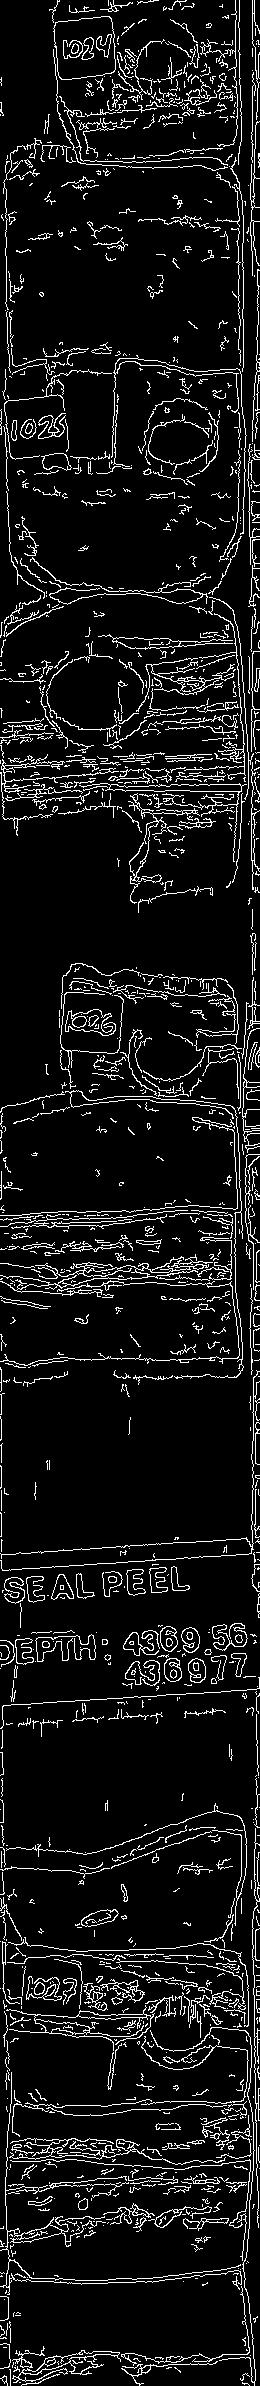hplug: (113, 11, 208, 103), (135, 1977, 224, 2074), (122, 1007, 217, 1096), (135, 396, 227, 484)
scal: (30, 630, 160, 750), (43, 781, 151, 884)
vplug: (30, 345, 125, 479)
